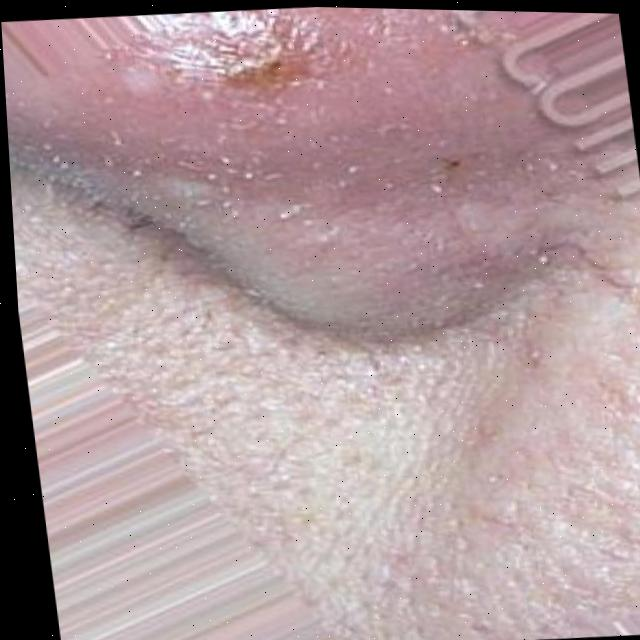Rosacea: (6, 1, 559, 251)
